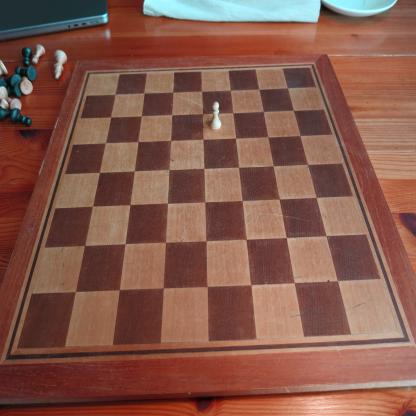white-pawn: (210, 101, 221, 132)
